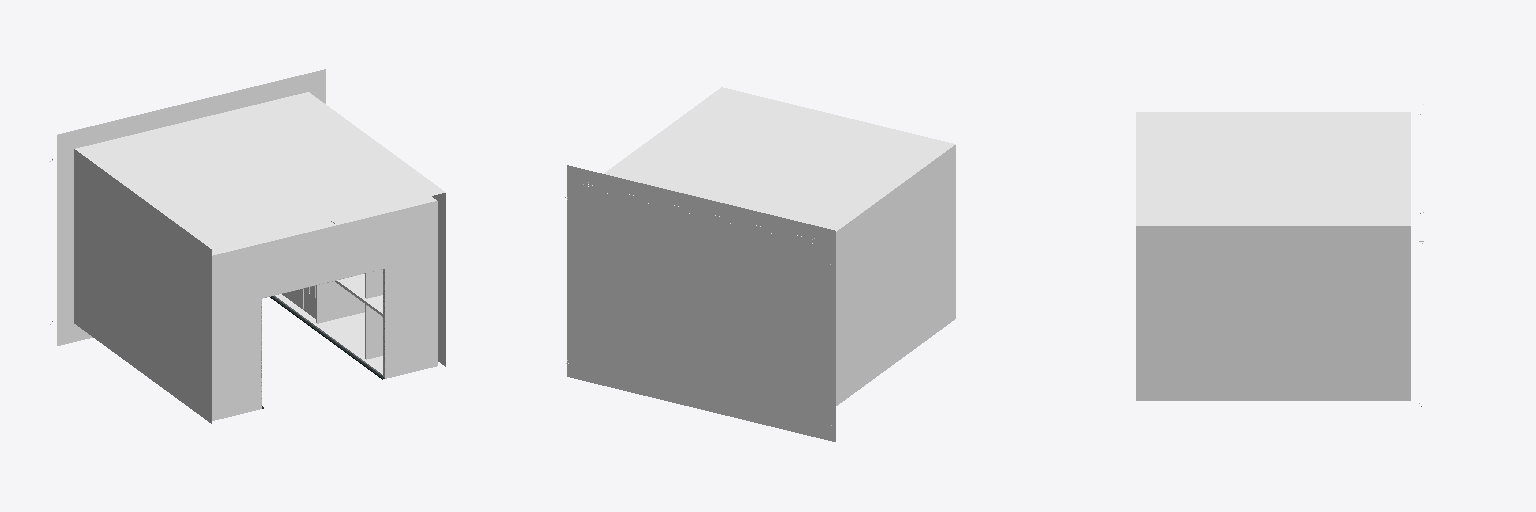
The picture shows the model from 3 angles: view 1: azimuth 30°, elevation 25°; view 2: azimuth 150°, elevation 25°; view 3: azimuth 270°, elevation 25°; orthographic projection.
Visible parts, largest first — view 1: Object_360, Object_362, Object_189, Object_129, Object_363, Object_369, Object_230, Object_5, Object_188, Object_128, Object_346, Object_170 (+4 smaller); view 2: Object_359, Object_360, Object_362, Object_367, Object_363, Object_369, Object_365; view 3: Object_361, Object_360.
Part boxes in pixels (x1,y1,x2,y2): Object_360: (75,92,445,249); Object_362: (74,149,211,423); Object_189: (384,200,437,314); Object_129: (212,232,305,309); Object_363: (58,69,325,148); Object_369: (57,135,73,345); Object_230: (385,306,437,375); Object_5: (212,349,260,417); Object_188: (339,212,384,278); Object_128: (212,299,260,357); Object_346: (274,294,437,378); Object_170: (308,224,336,286); Object_359: (584,188,817,418); Object_360: (604,87,955,243); Object_362: (836,145,955,405); Object_367: (567,363,834,441); Object_363: (567,165,834,244); Object_369: (818,231,835,441); Object_365: (567,166,583,375); Object_361: (1136,226,1410,400); Object_360: (1136,112,1410,225).
Size of the model in its own units: 3070 by 2286 by 2817.
Materials: 14 (2 with a texture image).